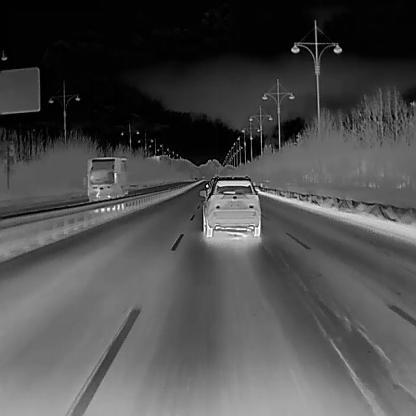car: (198, 175, 260, 239), (85, 155, 126, 203)
